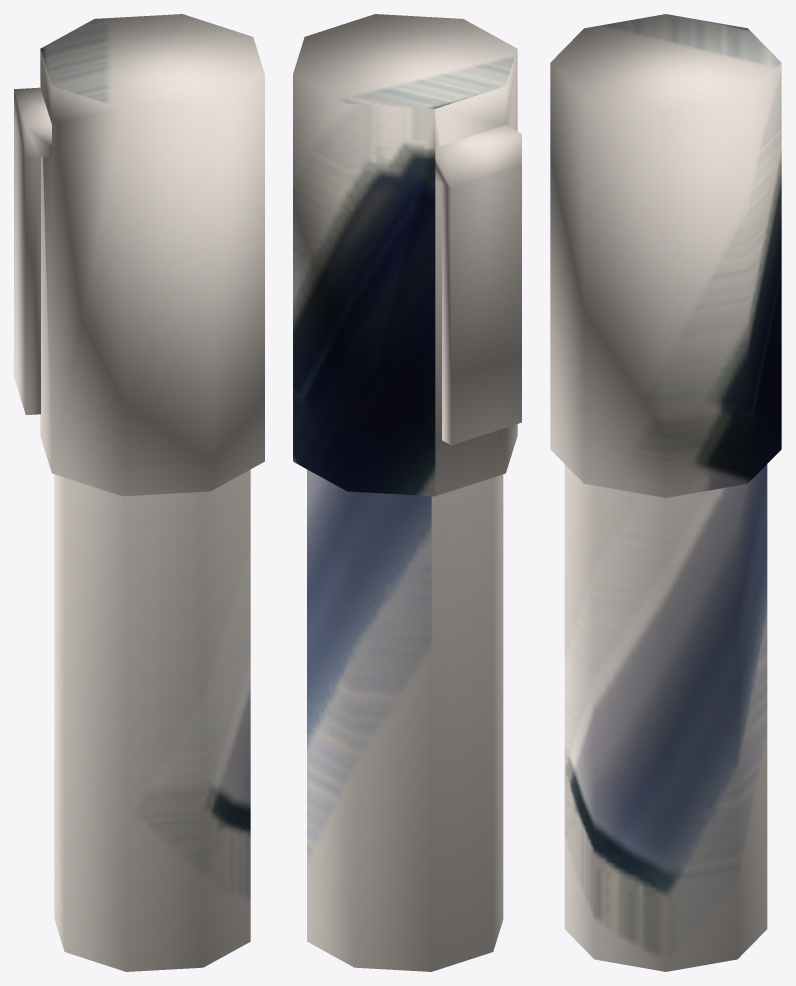
The model's file is pen.fbx.
The picture shows the model from 3 angles, left to right: view 1: azimuth 30°, elevation 25°; view 2: azimuth 150°, elevation 25°; view 3: azimuth 270°, elevation 25°; orthographic projection.
Parts seen in each view (by area): view 1: pen; view 2: pen; view 3: pen.
Boxes of the visible parts, box(x1,y1,x2,y2) form: pen: box(14, 14, 264, 971); pen: box(293, 14, 521, 971); pen: box(550, 14, 781, 971).
Bounding box in the file's own units: 0.3131 × 1.17 × 0.2834.
Materials: 1 (1 with a texture image).
